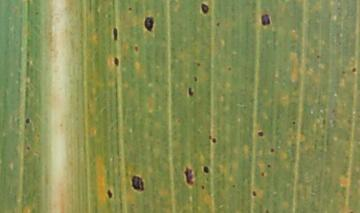tarspot: (142, 14, 155, 33), (183, 167, 195, 186), (131, 175, 145, 191), (259, 11, 271, 26), (200, 2, 209, 15), (105, 188, 113, 199), (186, 86, 194, 97), (112, 27, 118, 41), (268, 145, 275, 155), (113, 57, 120, 67), (202, 165, 210, 173), (250, 189, 257, 197), (256, 131, 264, 138), (225, 64, 232, 72), (215, 19, 221, 28), (351, 65, 357, 74), (24, 117, 31, 124), (265, 162, 272, 169), (230, 182, 237, 189), (192, 75, 198, 83), (133, 45, 139, 53), (315, 52, 321, 59), (291, 118, 296, 126), (211, 136, 216, 144), (128, 4, 133, 12), (200, 184, 206, 190), (264, 207, 270, 213), (26, 145, 31, 152), (196, 61, 201, 67), (261, 172, 265, 178)
